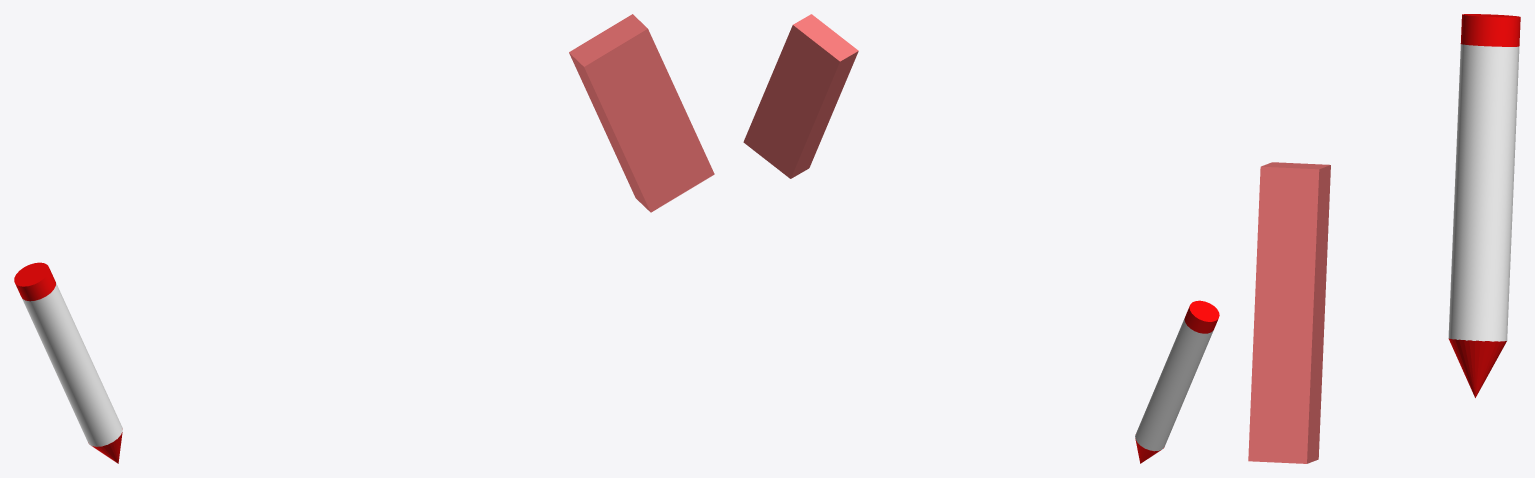
The model's file is Tools Content.glb.
The picture shows the model from 3 angles, left to right: view 1: azimuth 30°, elevation 25°; view 2: azimuth 150°, elevation 25°; view 3: azimuth 270°, elevation 25°; orthographic projection. The views are drawn at different scales.
Parts seen in each view (by area): view 1: Eraser Mesh, Cylinder, Cap; view 2: Eraser Mesh, Cylinder, Cap; view 3: Eraser Mesh, Cylinder, Cap, Cone.
Boxes of the visible parts, x1,y1,x2,y2 form: Eraser Mesh: (569,14,714,212); Cylinder: (21,283,122,446); Cap: (14,262,55,301); Eraser Mesh: (743,14,858,178); Cylinder: (1135,318,1213,451); Cap: (1184,300,1219,333); Eraser Mesh: (1248,162,1330,463); Cylinder: (1448,44,1519,341); Cap: (1460,14,1520,46); Cone: (1448,338,1506,397).
Size of the model in its own units: 0.3806 by 0.2177 by 0.0923.
